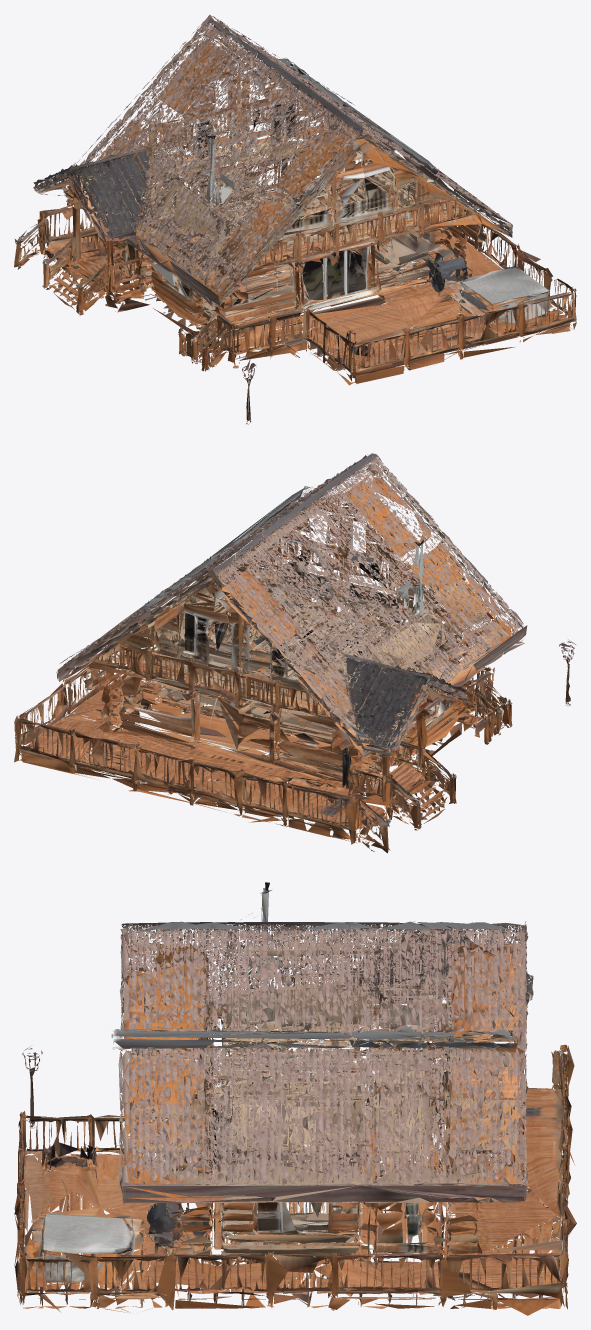
Rendered from nhasan.glb.
3 views of the same model, one above another, from view 1: azimuth 30°, elevation 25°; view 2: azimuth 150°, elevation 25°; view 3: azimuth 270°, elevation 25° (orthographic). The views are drawn at different scales.
Parts seen in each view (by area): view 1: Mesh_0; view 2: Mesh_0; view 3: Mesh_0.
Part boxes in pixels (x1,y1,x2,y2): Mesh_0: [14, 15, 576, 424]; Mesh_0: [14, 453, 575, 853]; Mesh_0: [14, 882, 576, 1315].
Size of the model in its own units: 1.86 by 1.15 by 1.94.
Materials: 1 (1 with a texture image).
